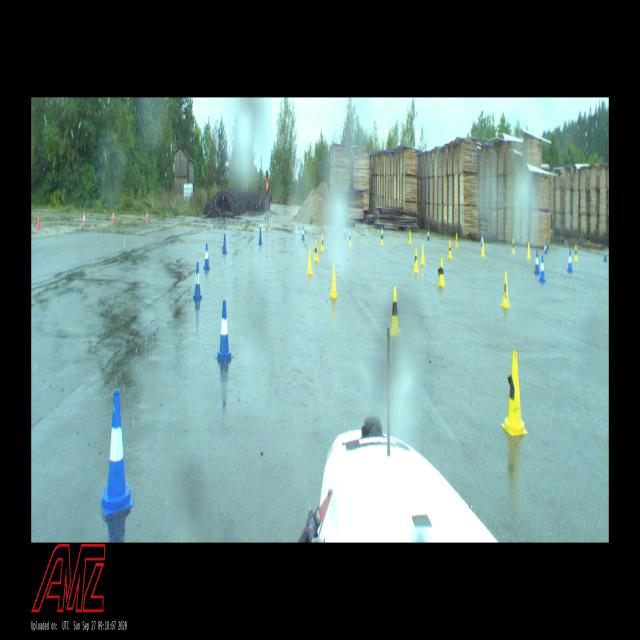blue_cone: (100, 390, 133, 517), (215, 300, 234, 361), (193, 262, 202, 300), (539, 255, 546, 282), (204, 243, 210, 270), (567, 250, 573, 273), (534, 251, 540, 274), (222, 232, 228, 254), (258, 228, 263, 245), (301, 224, 305, 240), (604, 247, 608, 262), (544, 240, 547, 254), (481, 232, 484, 246), (427, 229, 430, 241)
orange_cone: (36, 211, 40, 230), (82, 212, 86, 226), (112, 210, 115, 223), (145, 210, 148, 221)
yellow_cone: (501, 351, 528, 436), (389, 286, 401, 338), (500, 271, 511, 308), (329, 263, 338, 298), (438, 256, 446, 286), (306, 247, 313, 275), (413, 248, 419, 274), (447, 239, 453, 259), (420, 244, 425, 265), (314, 239, 318, 262), (481, 237, 485, 257), (320, 234, 324, 252), (527, 241, 531, 259), (511, 238, 515, 255), (574, 245, 578, 261), (348, 231, 352, 247), (380, 230, 384, 246), (454, 233, 458, 248), (408, 230, 412, 244)
